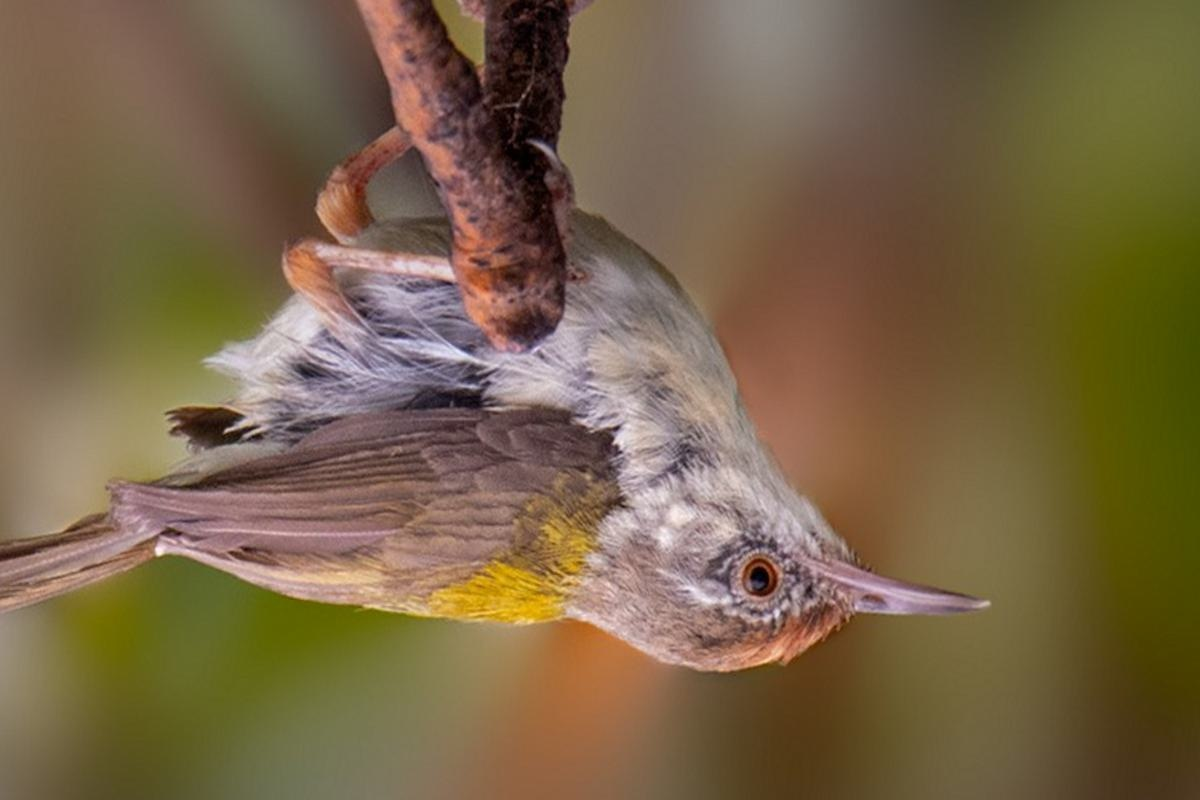tailorbird: (27, 161, 1005, 701)
